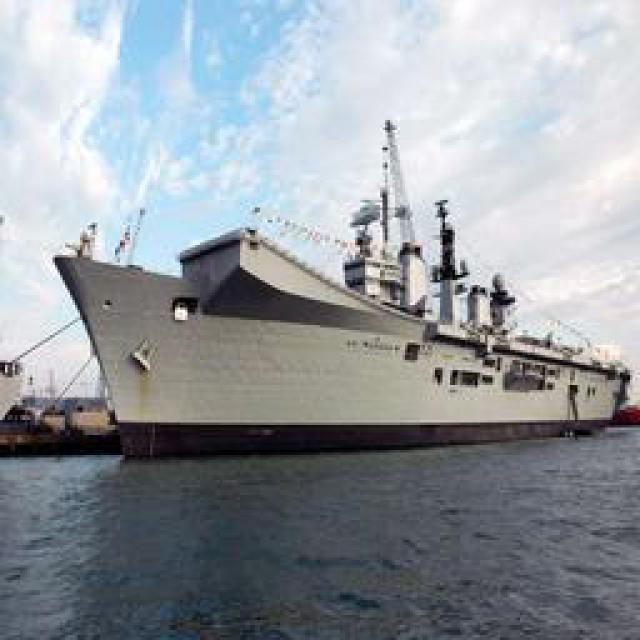Ship: (65, 130, 625, 445)
